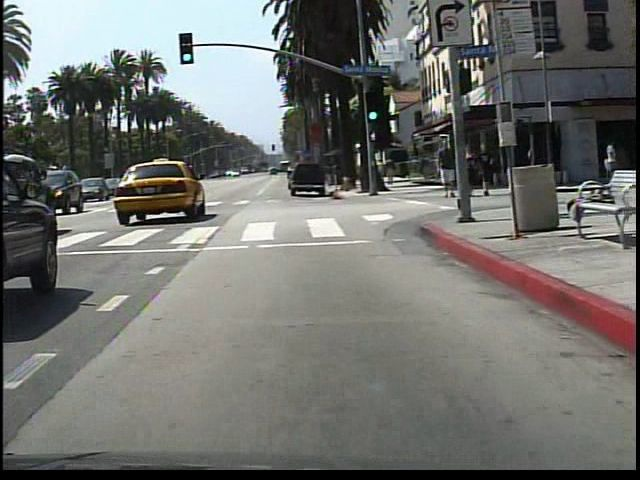person: (434, 139, 455, 205), (600, 138, 617, 187)
